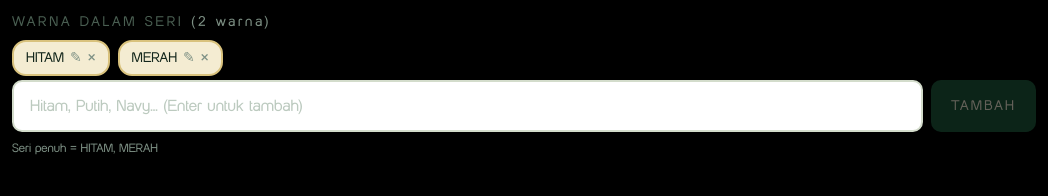
it: WarnaSection › rename warna › nama duplikat menampilkan error 'Nama warna sudah dipakai warna lain di produk ini'
The width and height of the screenshot is (1048, 196).
Step 1. Click the 1st button titled "Ganti nama warna" → (76, 58), box [70,51,82,65]
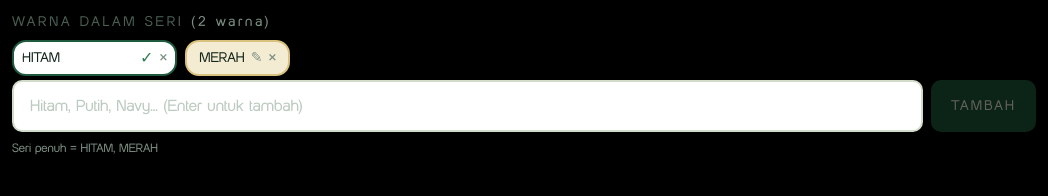
Step 2. Replace the text in the field showing "HITAM" with "merah" → (78, 58), box [22,48,134,68]
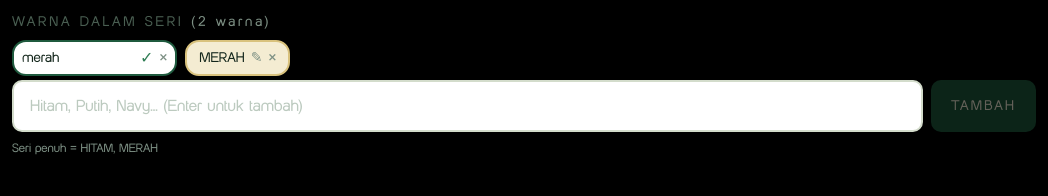
Step 3. Click the button titled "Simpan nama warna" → (147, 58), box [140,50,153,66]
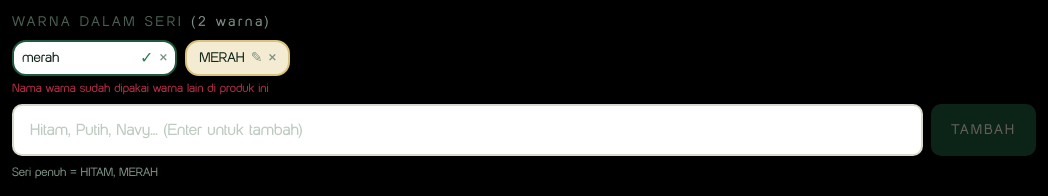
Expected: the text "Nama warna sudah dipakai warna lain di produk ini" is shown, [12,80,269,95]
